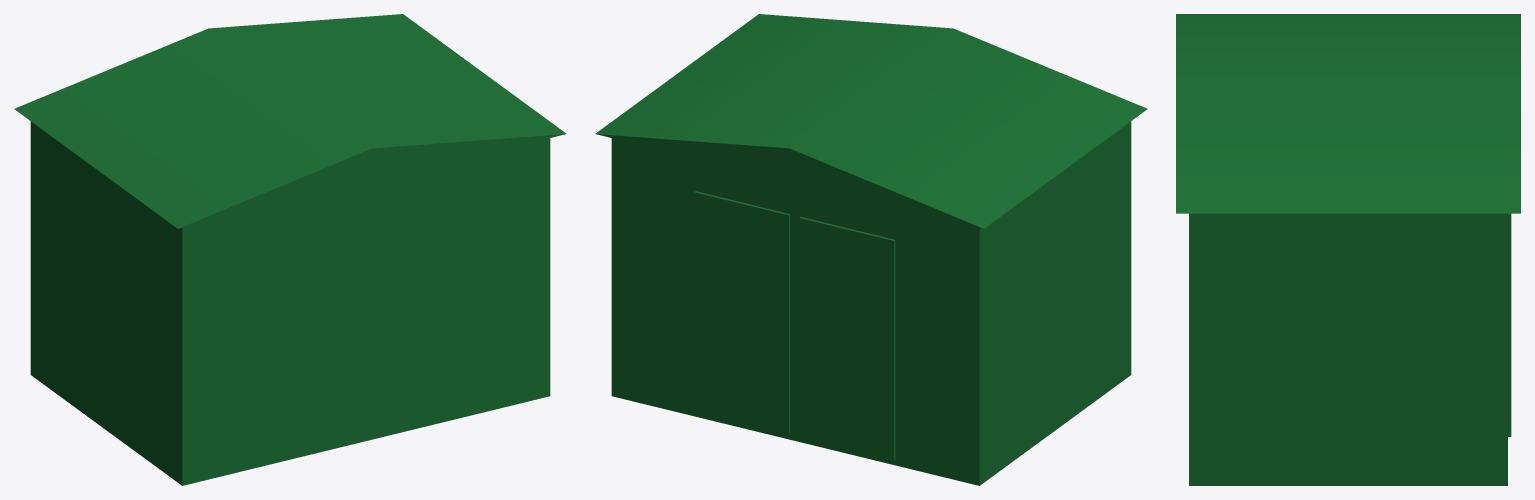
The model's file is energy.plant.substation.glb.
3 renders of one model, left to right at view 1: azimuth 30°, elevation 25°; view 2: azimuth 150°, elevation 25°; view 3: azimuth 270°, elevation 25°, orthographic. The views are drawn at different scales.
Visible parts, largest first — view 1: main__plastic_green; view 2: main__plastic_green; view 3: main__plastic_green.
Part boxes in pixels (x1,y1,x2,y2): main__plastic_green: [14, 14, 566, 485]; main__plastic_green: [595, 14, 1147, 485]; main__plastic_green: [1176, 14, 1520, 485].
Bounding box in the file's own units: 3.7 × 2.7 × 2.7.
